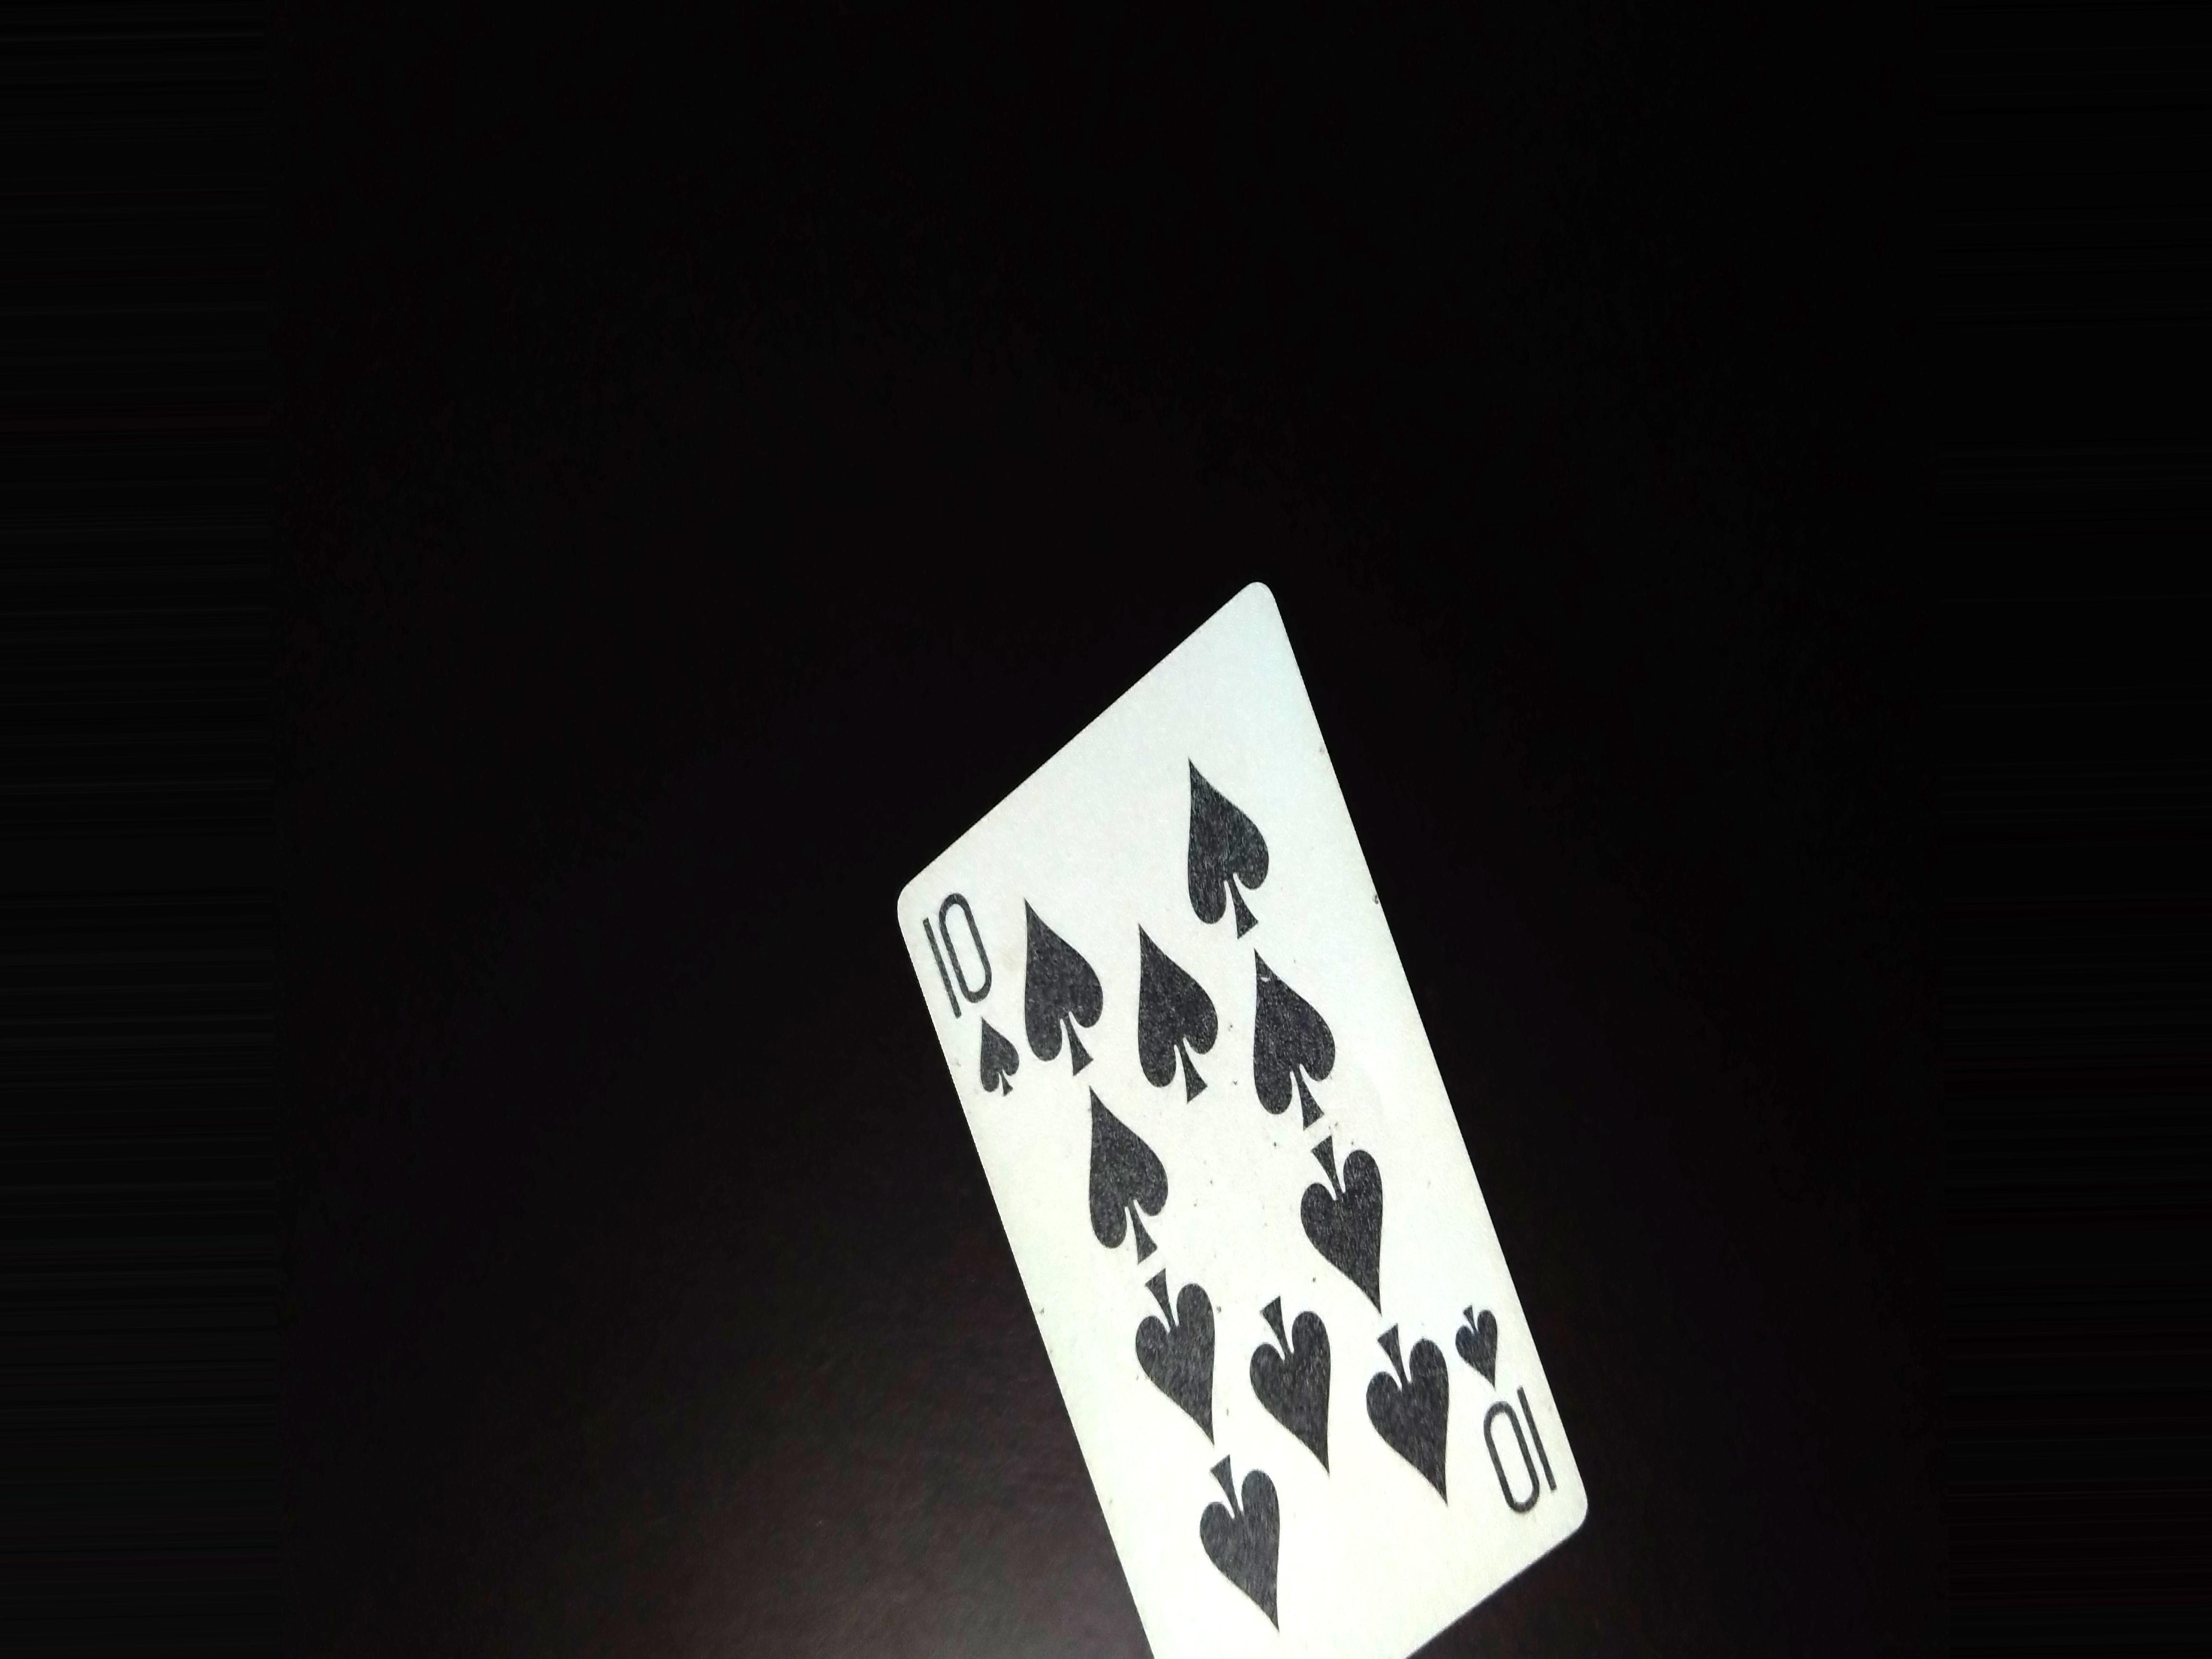10S: (1449, 1300, 1557, 1539)
